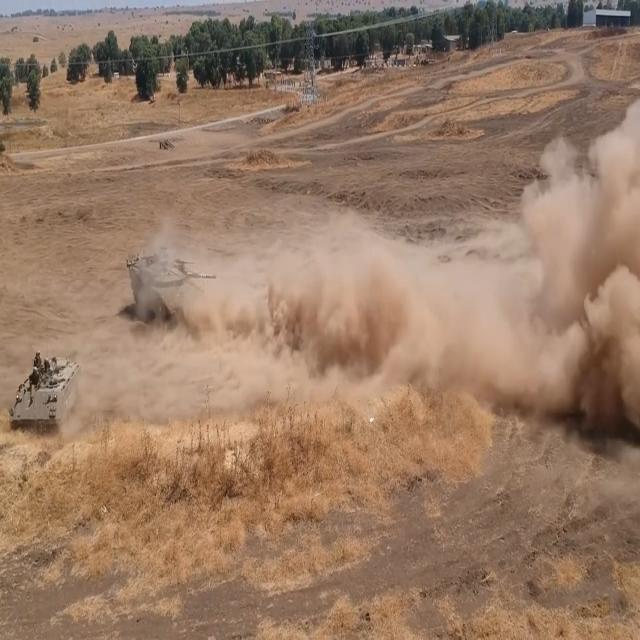tank: (125, 241, 220, 333)
